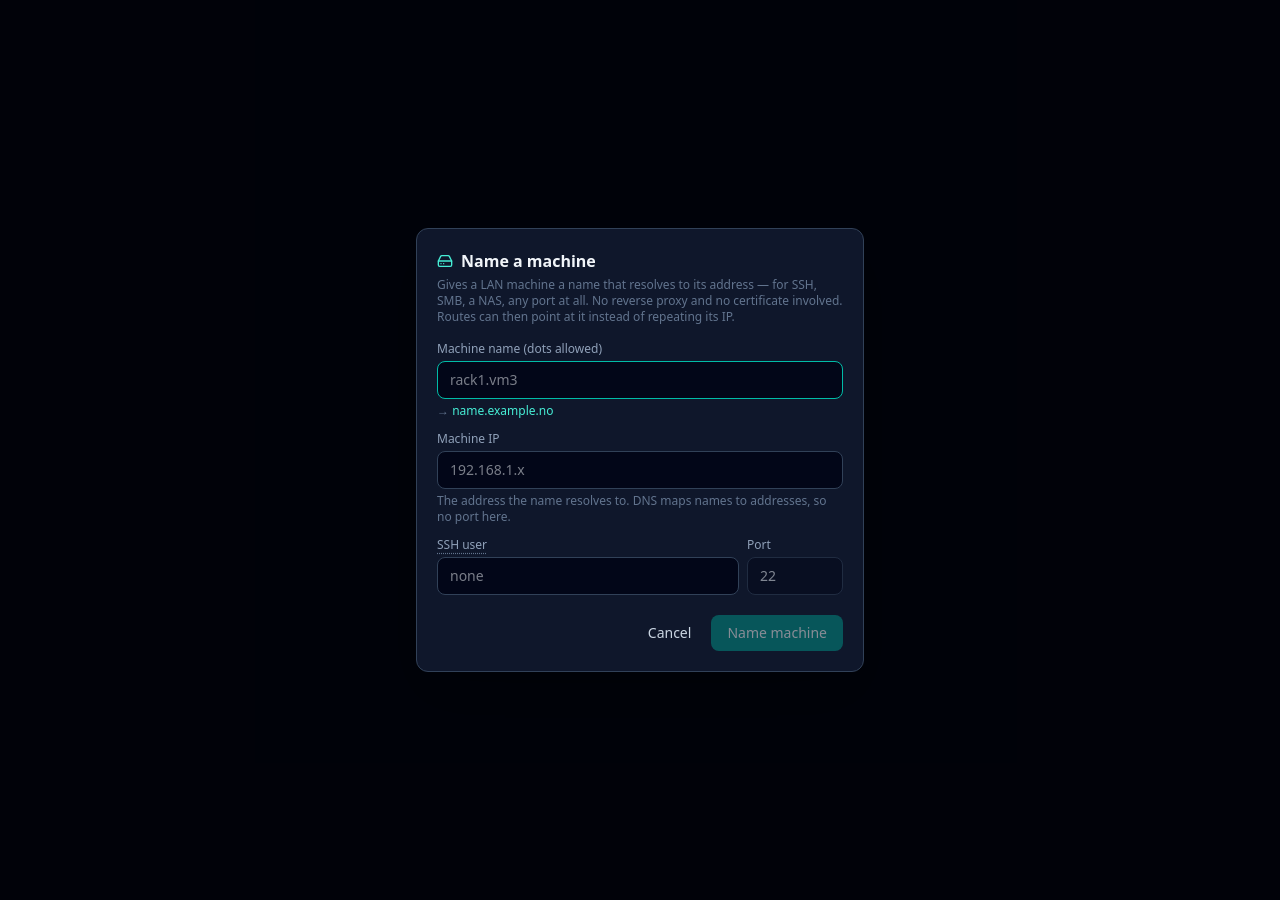
Test case: an address with a port is rejected — DNS maps names to addresses
The width and height of the screenshot is (1280, 900).
Type "nas" into the field with placeholder "rack1.vm3" at (640, 380), box [437,361,843,399]
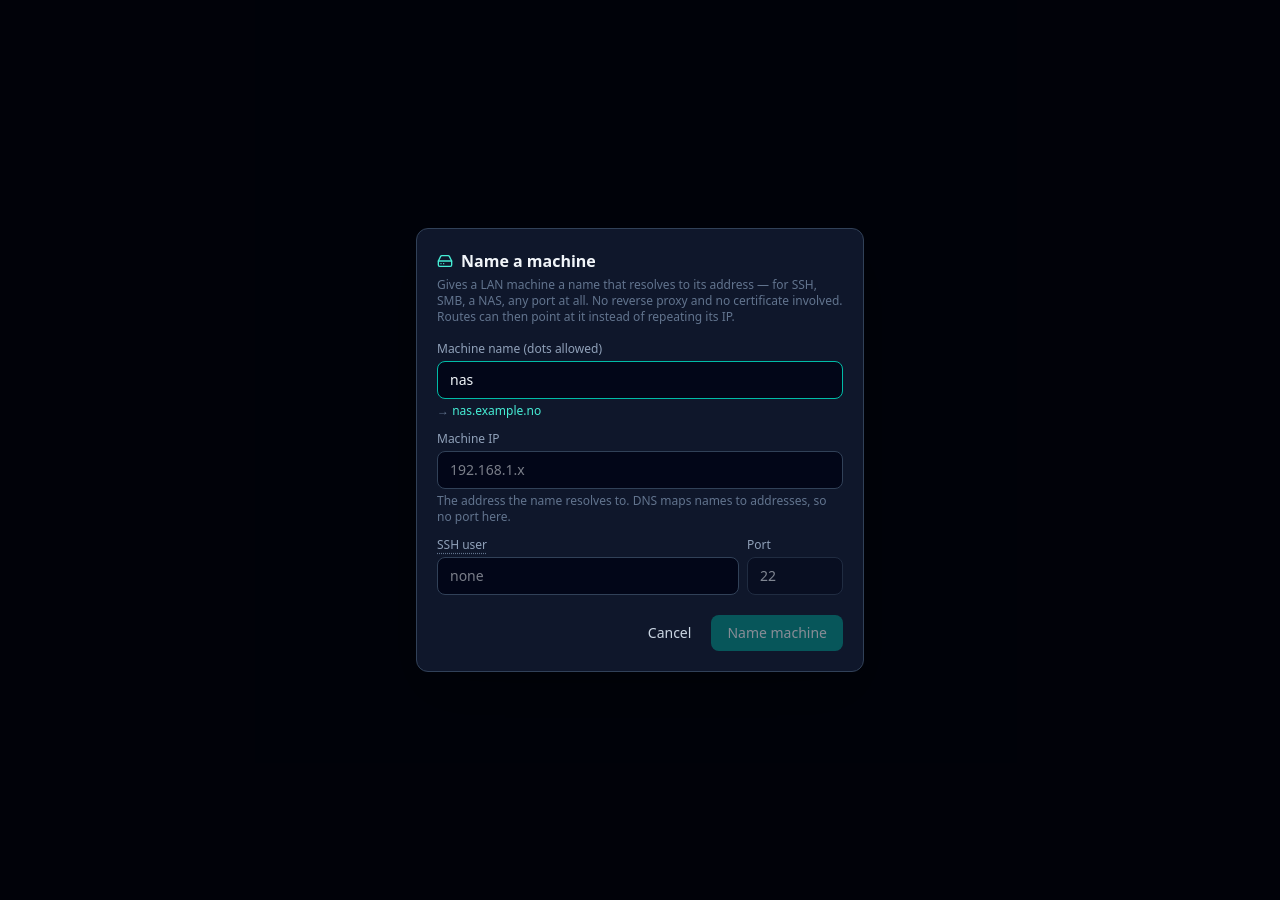
Type "192.168.10.55:80" into the field with placeholder "192.168.1.x" at (640, 470), box [437,451,843,489]
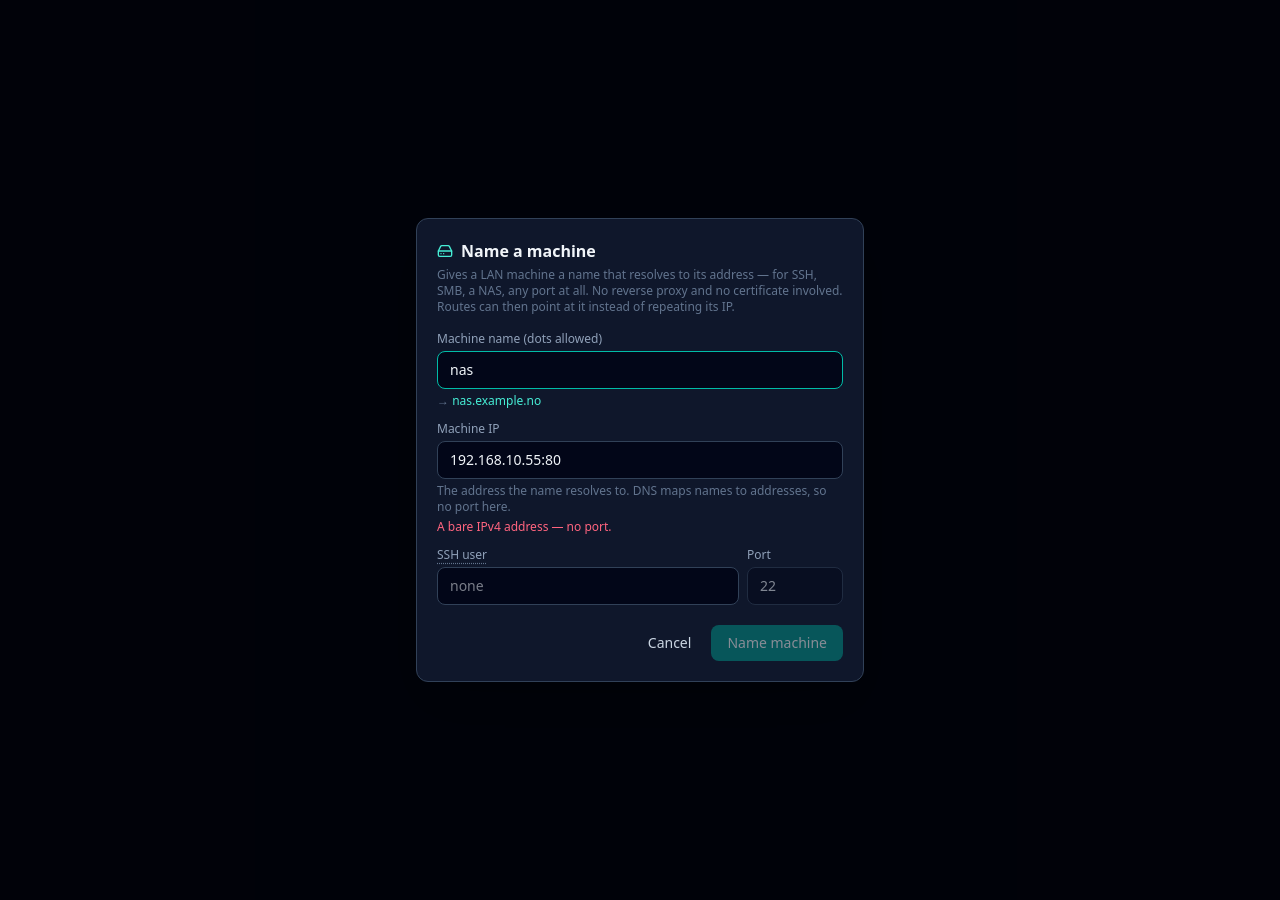
Expected: the button "Name machine" is disabled, [711,625,843,661]
Now the text "A bare IPv4 address — no port." is shown, box [437,518,612,535]
